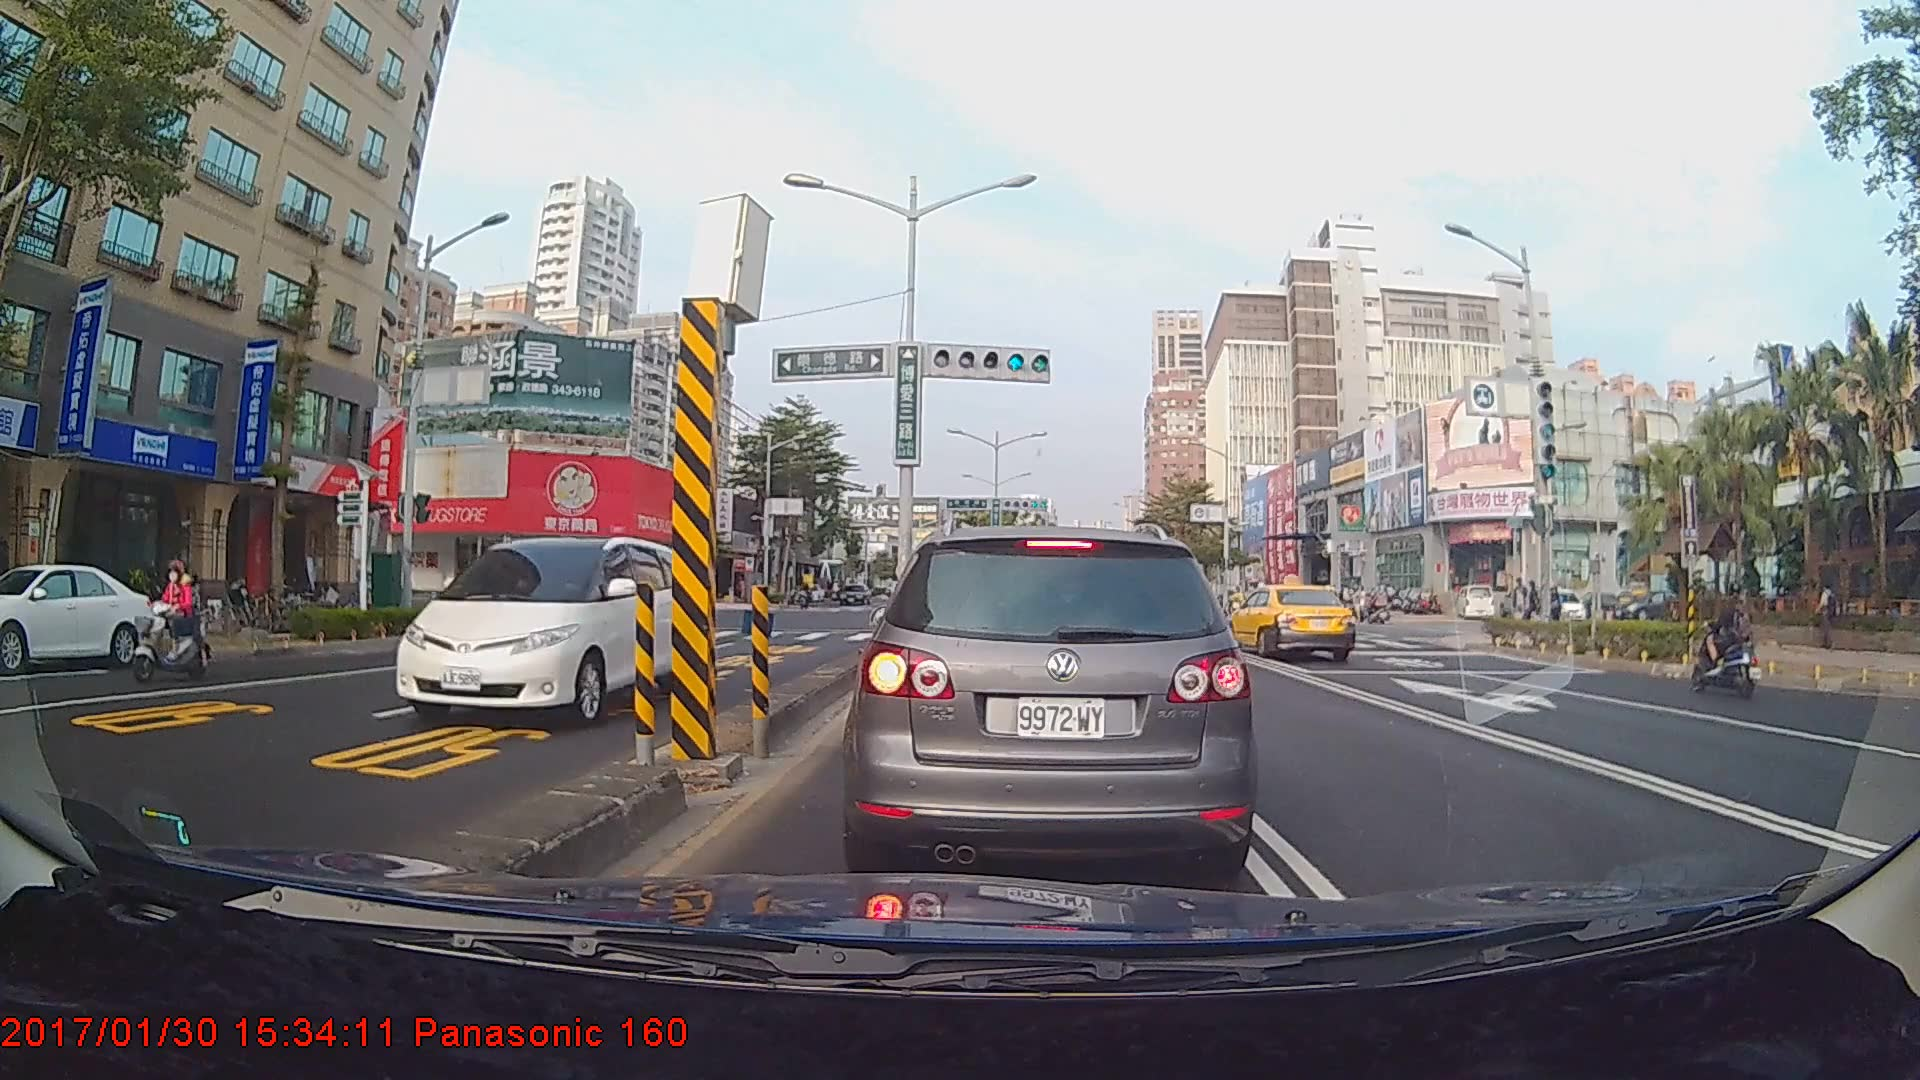pedestrian: (1815, 579, 1841, 649)
rider: (117, 558, 205, 689), (1686, 578, 1770, 703)
vehicle: (855, 517, 1251, 878), (389, 531, 699, 725), (0, 561, 158, 671), (1224, 582, 1357, 665)
